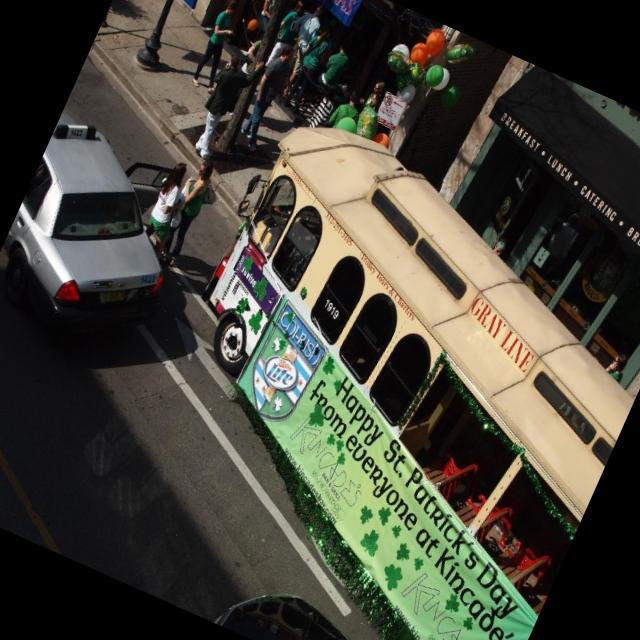bus: (79, 83, 640, 640)
